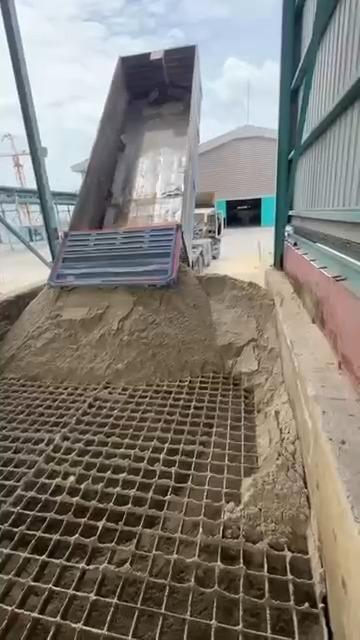sand: (0, 268, 308, 547), (200, 276, 308, 548), (0, 267, 222, 384)
